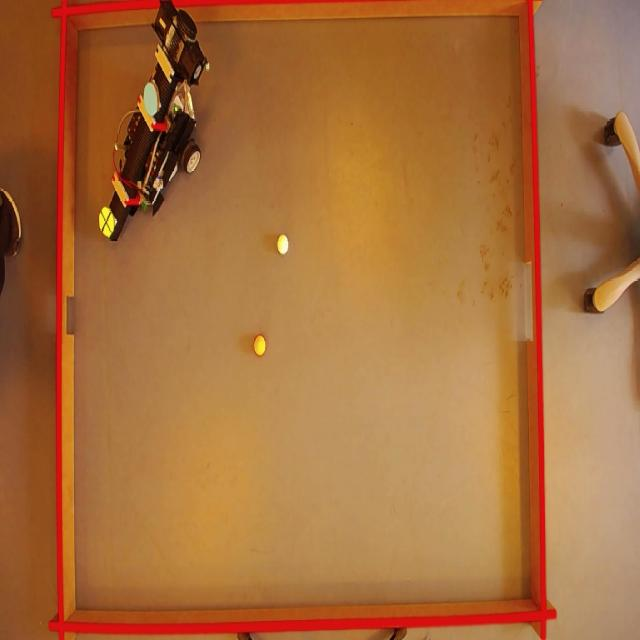orange: (254, 336, 268, 356)
robot: (102, 3, 210, 250)
robot-front: (99, 206, 115, 238)
robot-rear: (141, 83, 159, 114)
white: (275, 233, 289, 254)
